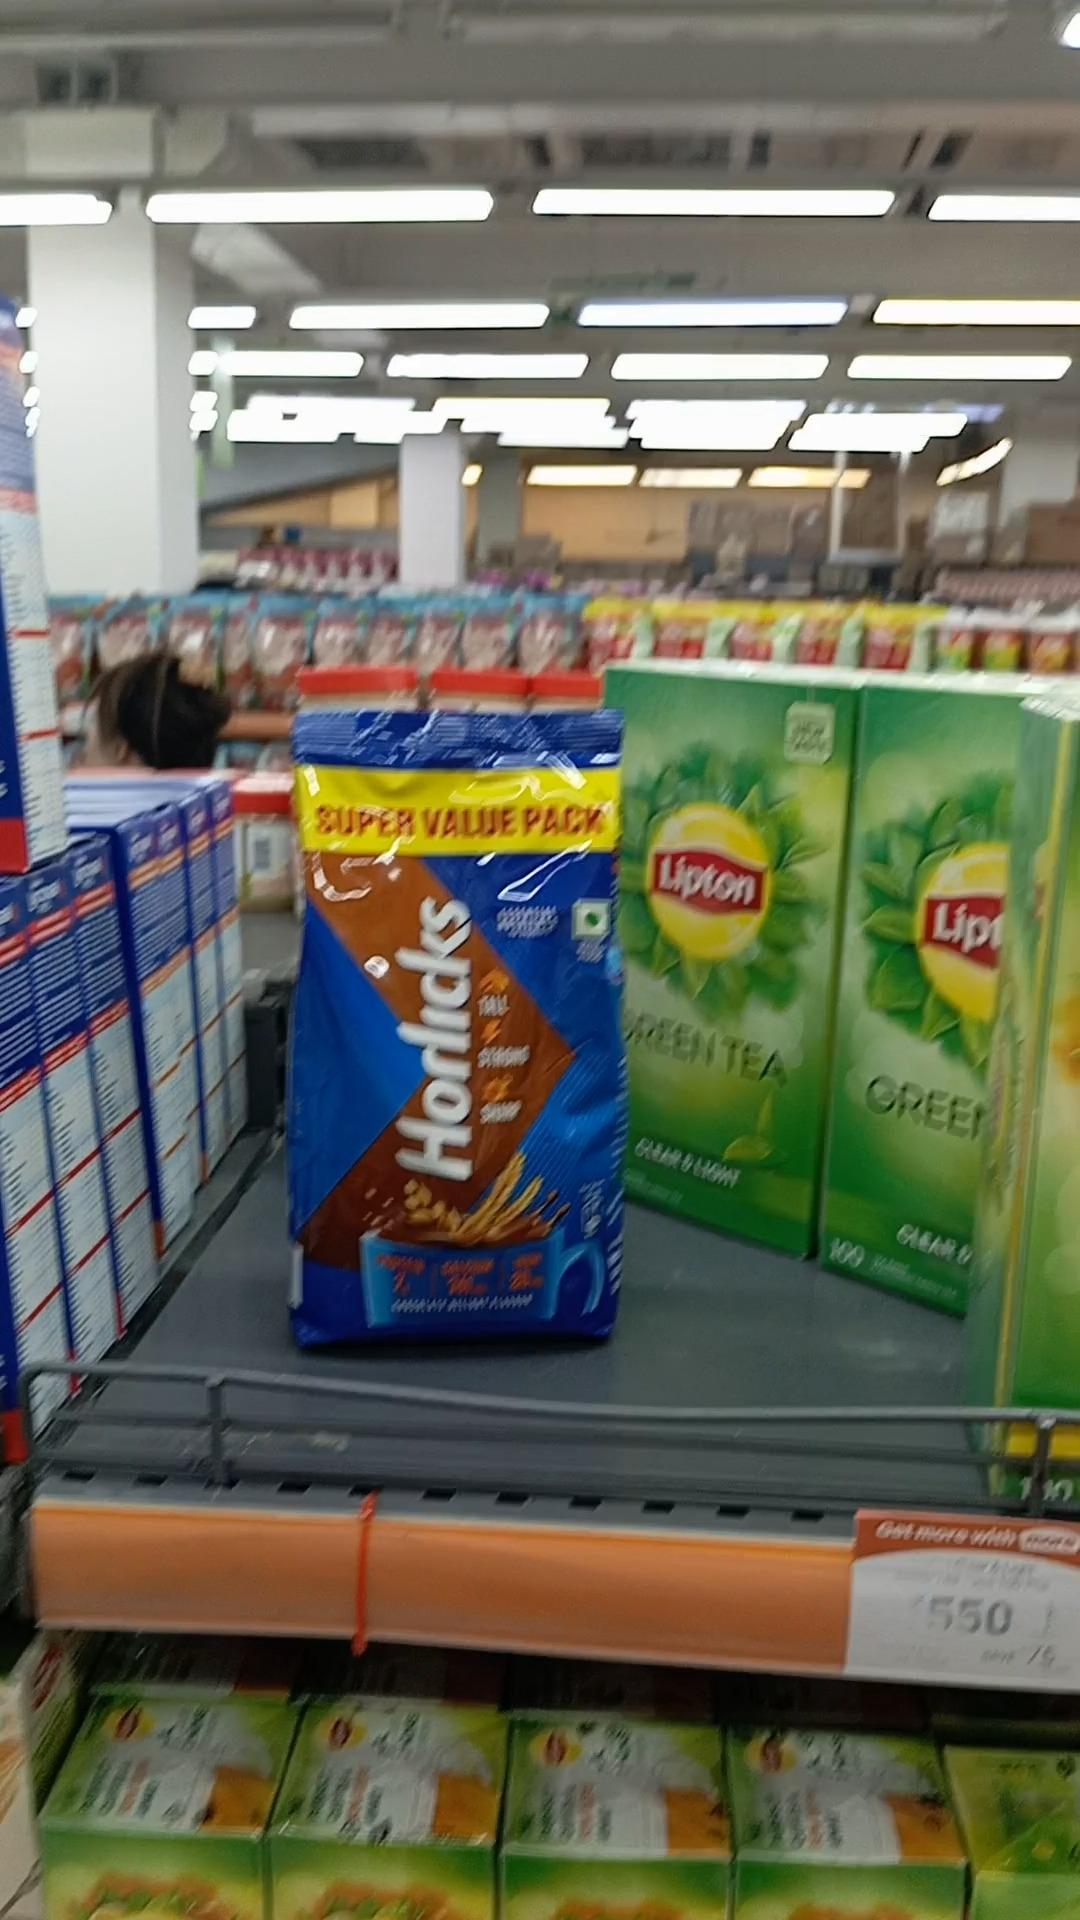HORLICK_CHOCOLATE_750_G_POUCH: (291, 707, 624, 1357)
